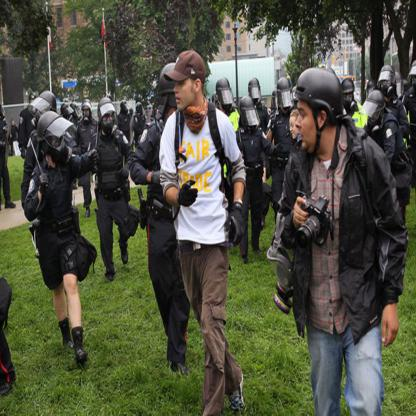face: (296, 100, 321, 152), (175, 78, 195, 111), (51, 134, 61, 159), (103, 111, 114, 131), (282, 93, 292, 114), (290, 118, 299, 139), (369, 108, 379, 125), (246, 111, 256, 127), (383, 78, 392, 95), (344, 92, 354, 107), (40, 107, 49, 122), (222, 92, 231, 106), (251, 88, 259, 101), (395, 84, 402, 97), (84, 109, 90, 120), (275, 99, 281, 110), (67, 111, 72, 121), (214, 99, 219, 109), (369, 88, 376, 95), (412, 75, 416, 87), (32, 100, 36, 108), (125, 106, 128, 113), (13, 122, 15, 126)
